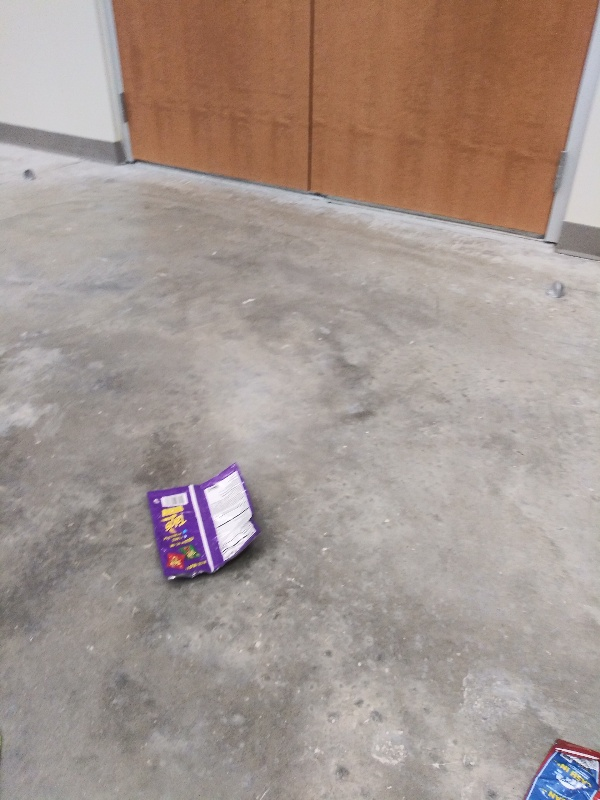bag: (144, 459, 265, 587), (517, 736, 600, 797)
